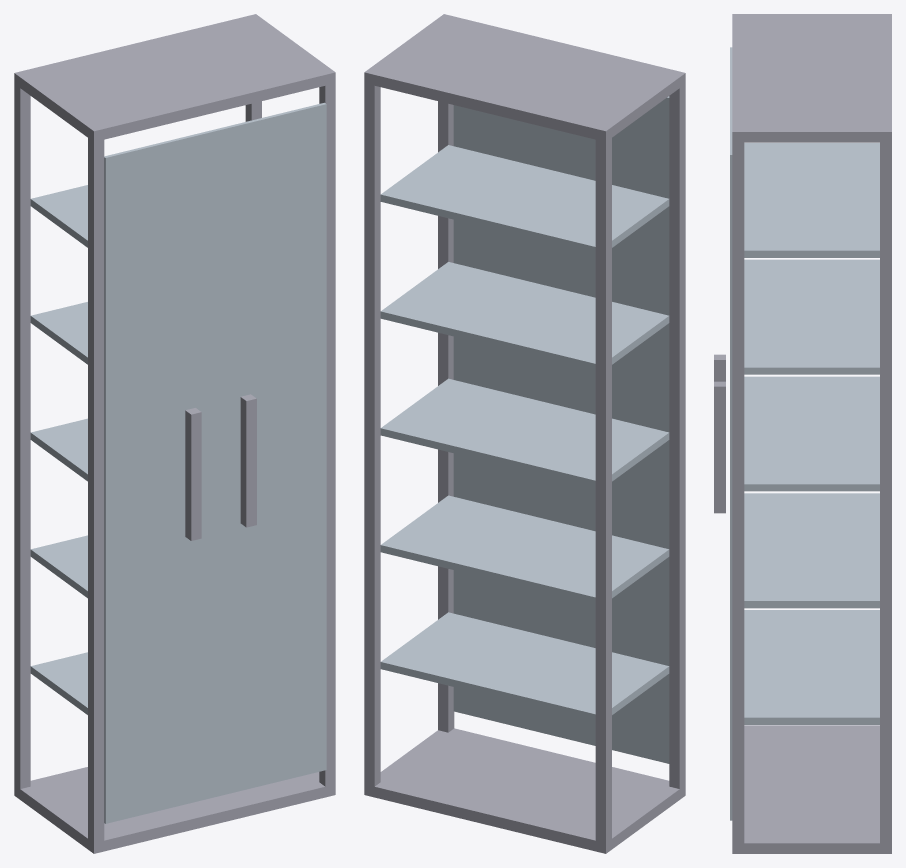
The model's file is glass_display_cabinet.obj.
The picture shows the model from 3 angles, left to right: view 1: azimuth 30°, elevation 25°; view 2: azimuth 150°, elevation 25°; view 3: azimuth 270°, elevation 25°; orthographic projection.
Parts seen in each view (by area): view 1: Door_L, Door_R, Top, Post_LF, Post_LB, Base, Post_RF, Handle_R, Handle_L, Shelf_1, Shelf_2, Shelf_4 (+2 smaller); view 2: Door_L, Door_R, Top, Base, Shelf_1, Shelf_2, Shelf_3, Shelf_4, Shelf_5, Post_LB, Post_RB, Post_LF (+1 smaller); view 3: Top, Base, Shelf_2, Shelf_3, Shelf_4, Shelf_1, Shelf_5, Post_RF, Post_RB, Door_R, Handle_R.
Part boxes in pixels (x1,y1,x2,y2): Door_L: (104, 129, 215, 823); Door_R: (214, 102, 326, 796); Top: (14, 14, 335, 141); Post_LF: (88, 138, 104, 842); Post_LB: (14, 84, 30, 788); Base: (14, 767, 335, 853); Post_RF: (319, 83, 335, 786); Handle_R: (240, 394, 256, 527); Handle_L: (185, 408, 201, 540); Shelf_1: (30, 652, 87, 714); Shelf_2: (30, 535, 87, 598); Shelf_4: (30, 302, 87, 364); Door_L: (564, 96, 669, 763); Door_R: (453, 105, 563, 738); Top: (364, 14, 685, 141); Base: (364, 728, 685, 853); Shelf_1: (380, 612, 669, 721); Shelf_2: (380, 495, 669, 604); Shelf_3: (380, 378, 669, 487); Shelf_4: (380, 262, 669, 370); Shelf_5: (380, 145, 669, 253); Post_LB: (595, 138, 611, 842); Post_RB: (364, 83, 380, 786); Post_LF: (669, 84, 685, 788); Top: (732, 14, 891, 142); Base: (732, 725, 891, 853); Shelf_2: (744, 493, 879, 608); Shelf_3: (744, 376, 879, 491); Shelf_4: (744, 259, 879, 374); Shelf_1: (744, 610, 879, 724); Shelf_5: (744, 143, 879, 257); Post_RF: (732, 142, 744, 843); Post_RB: (880, 142, 891, 843); Door_R: (730, 101, 732, 820); Handle_R: (714, 381, 725, 513).
Size of the model in its own units: 0.7 by 2 by 0.446.
